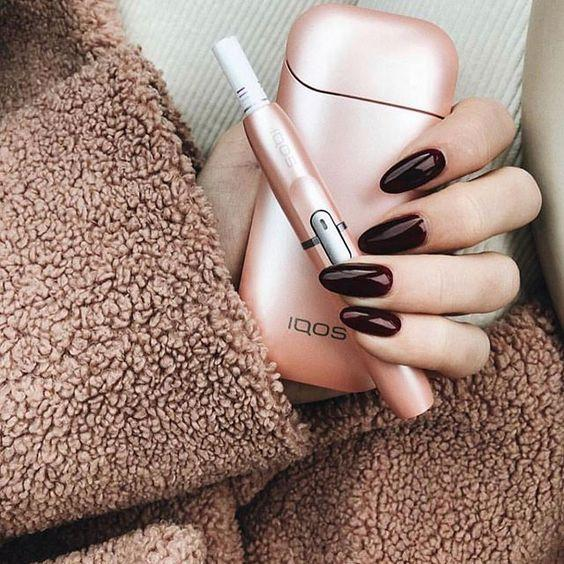iqos: (212, 33, 435, 420)
